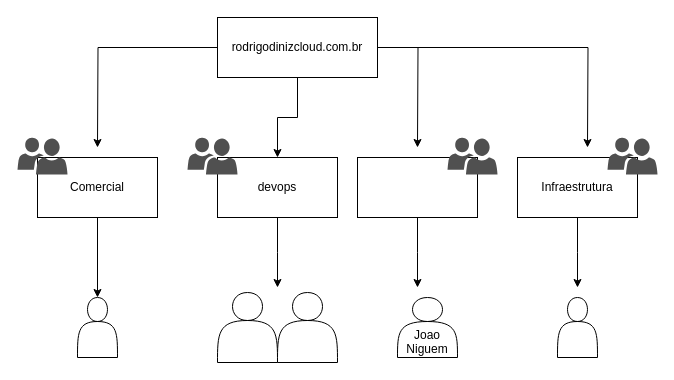
Image size: 674x380. Some labels were removed from this diagram. The centre of each missing label's shape, as x and y in pixels:
"Financeiro" goes at [417,187].
"Lucas Diniz" goes at [307,327].
"Rodrigo Diniz" goes at [247,327].
